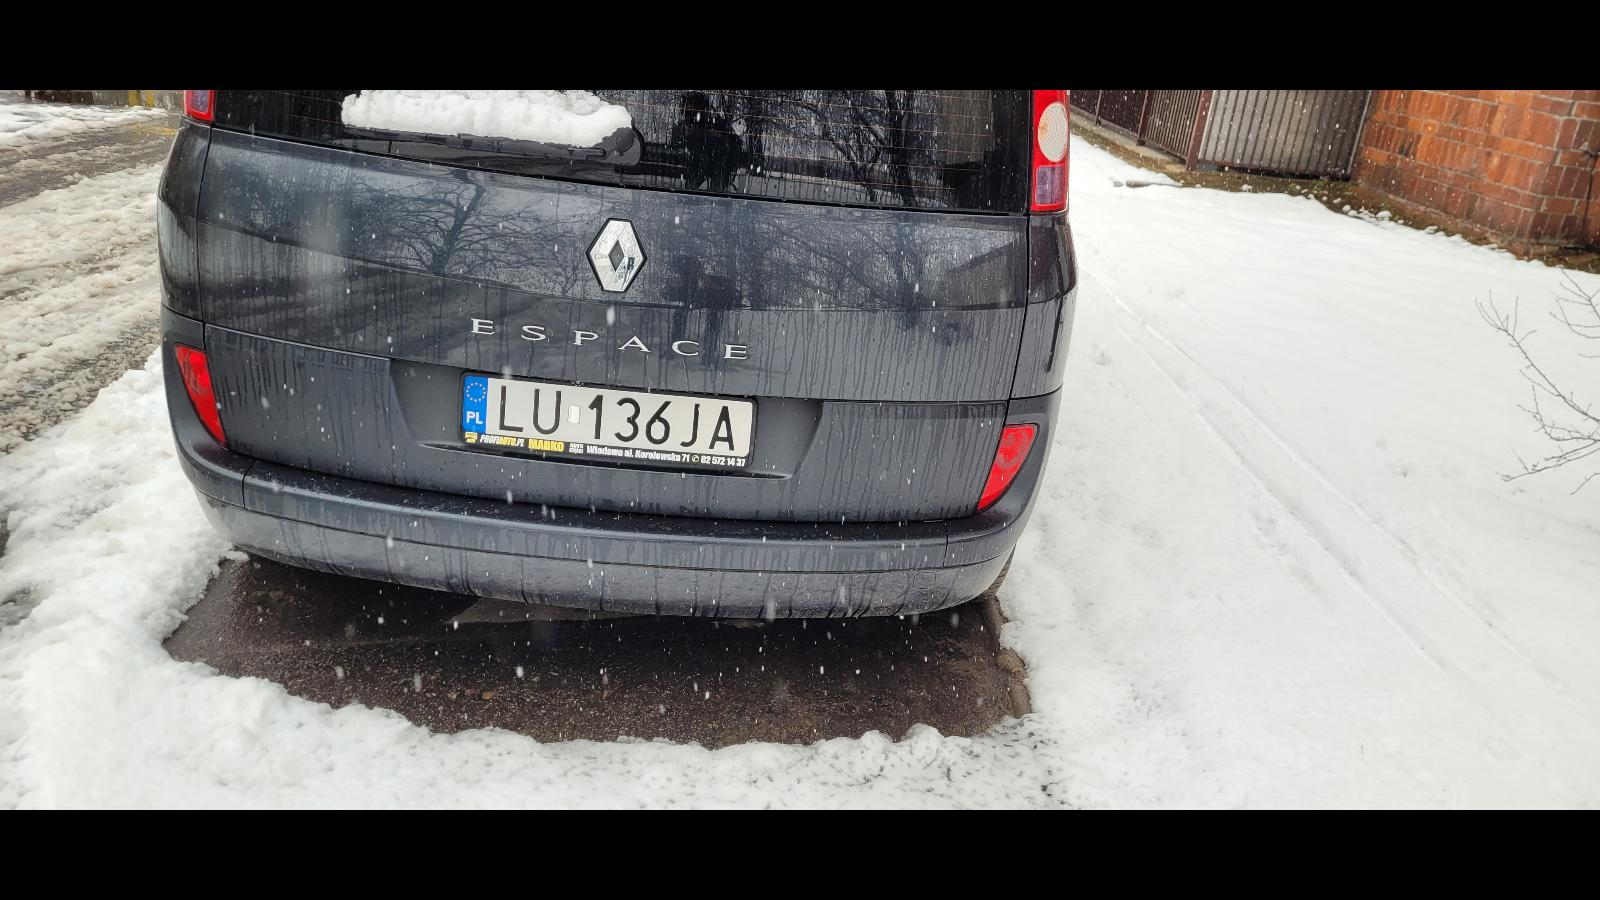plates: (457, 372, 758, 468)
